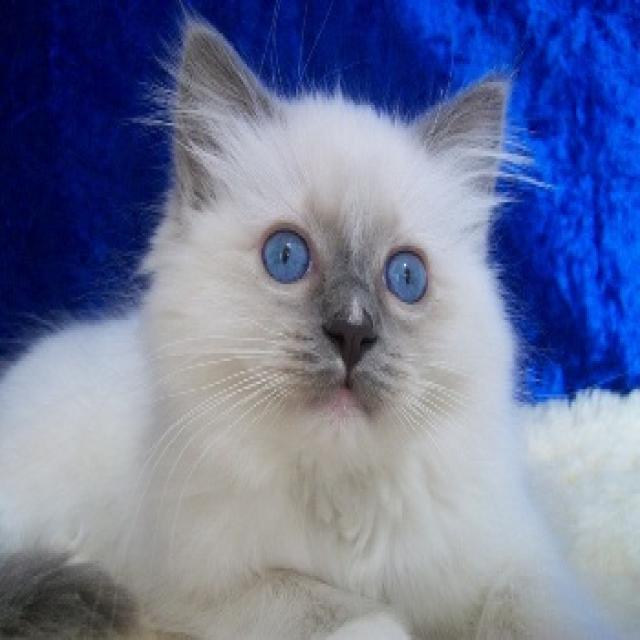Ragdoll: (138, 19, 517, 471)
